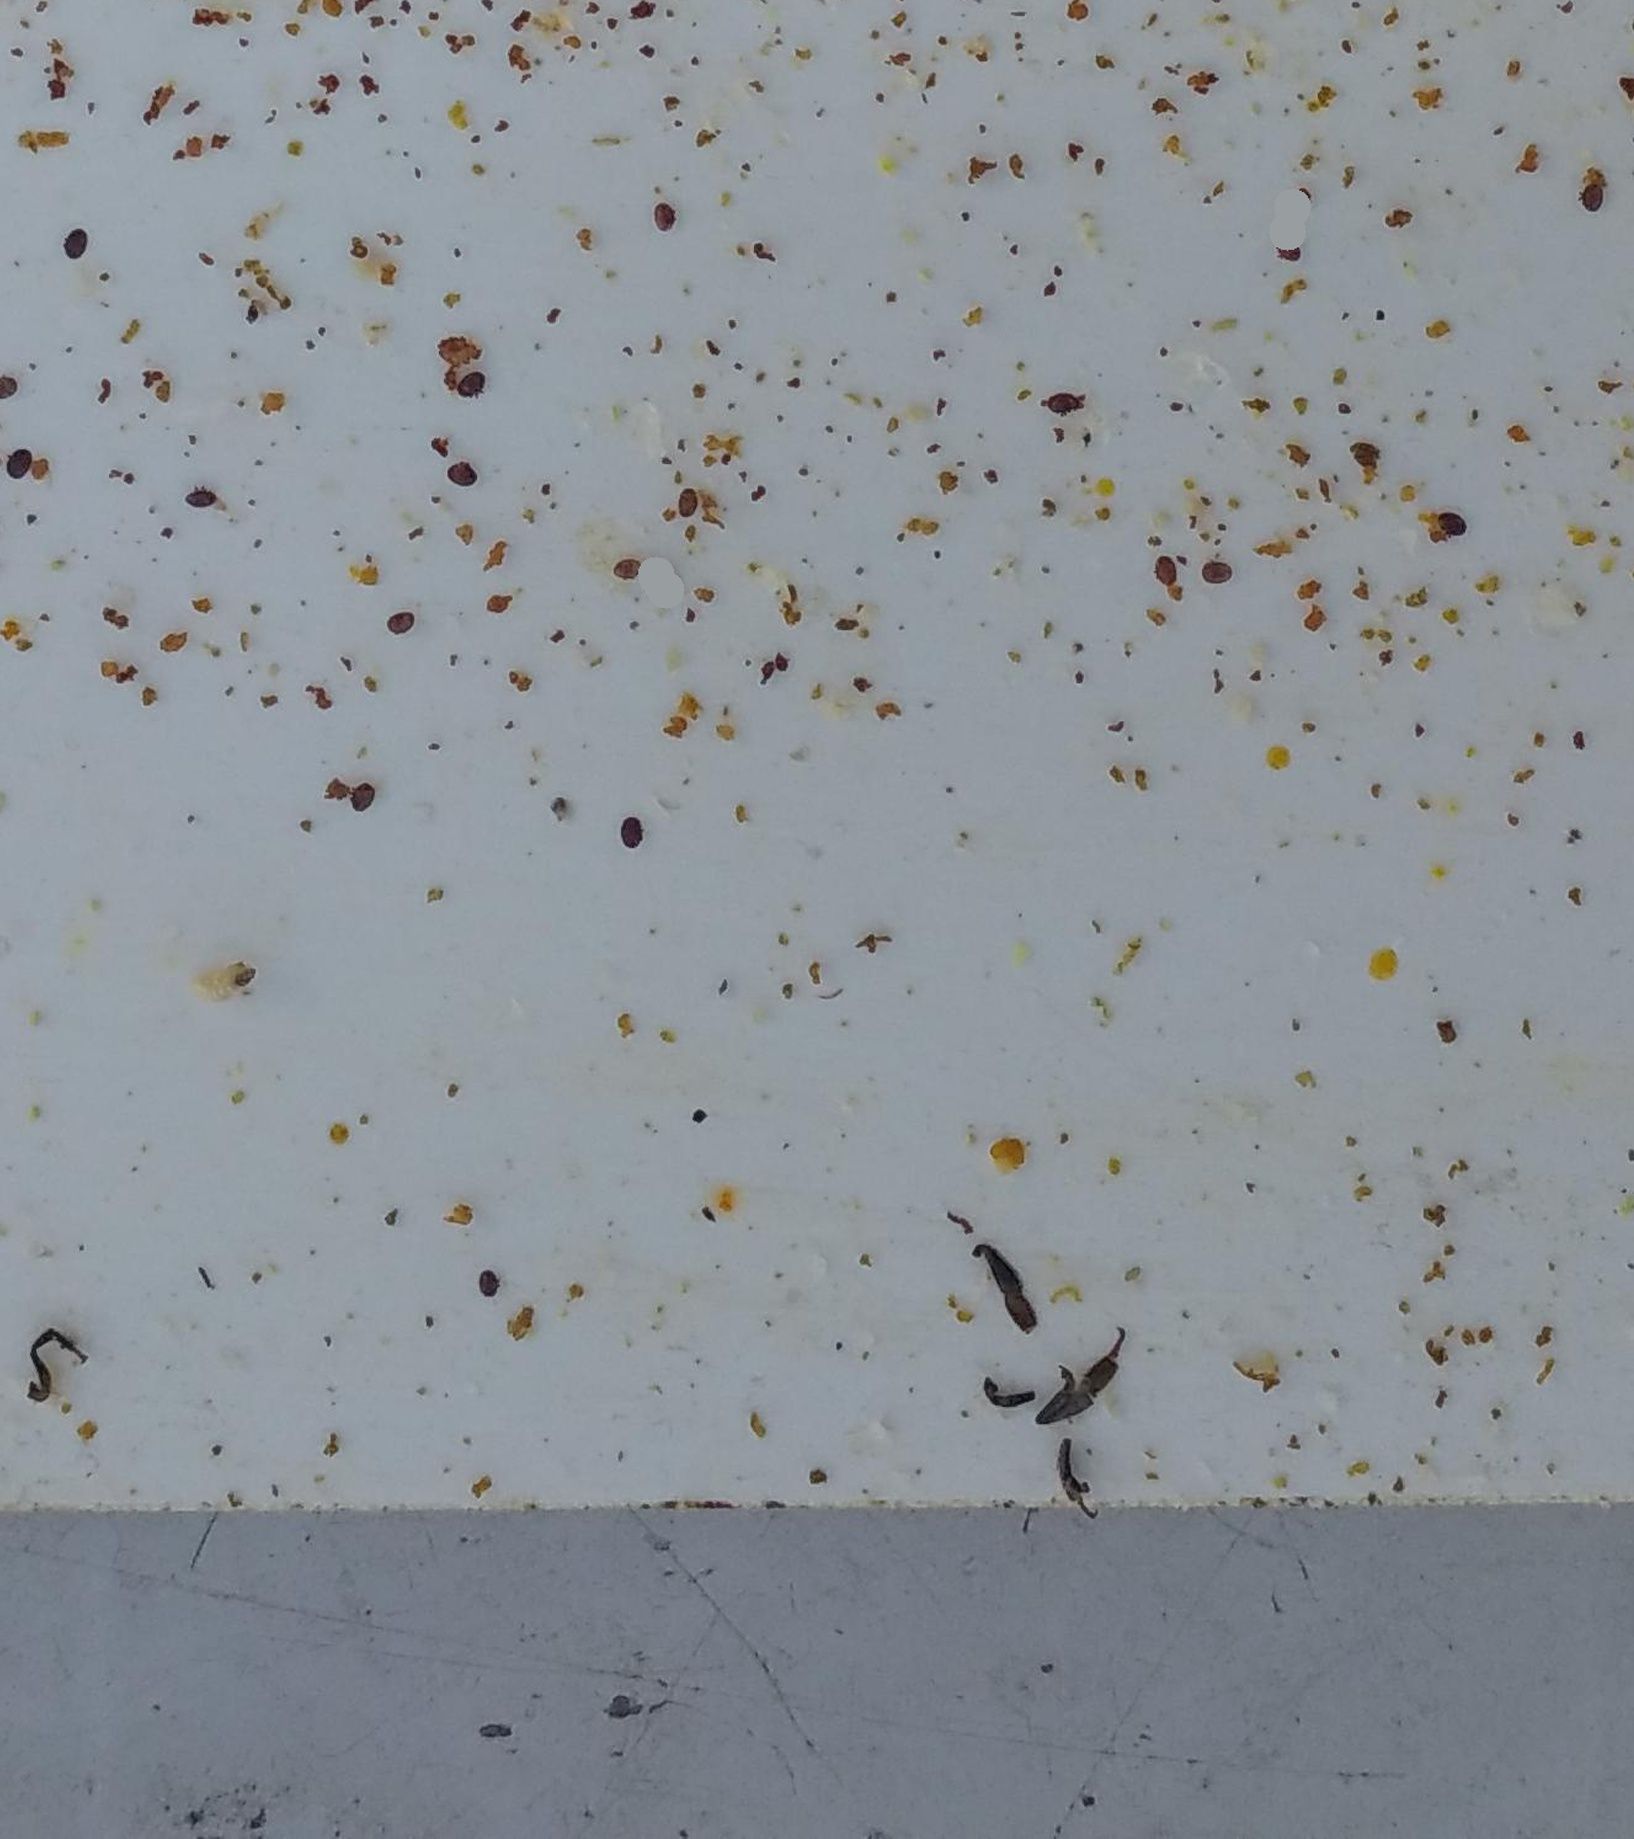Varroa: (192, 483, 218, 522), (66, 227, 90, 267), (615, 555, 647, 584), (1577, 177, 1606, 207), (468, 1271, 498, 1300), (650, 197, 678, 226), (383, 606, 412, 634), (672, 484, 700, 513), (1199, 552, 1225, 582), (457, 374, 484, 402), (625, 812, 650, 842), (1043, 388, 1069, 415), (1150, 550, 1177, 577), (453, 454, 473, 484), (1438, 517, 1461, 543), (356, 784, 375, 808), (1278, 243, 1296, 267), (6, 454, 28, 472)
